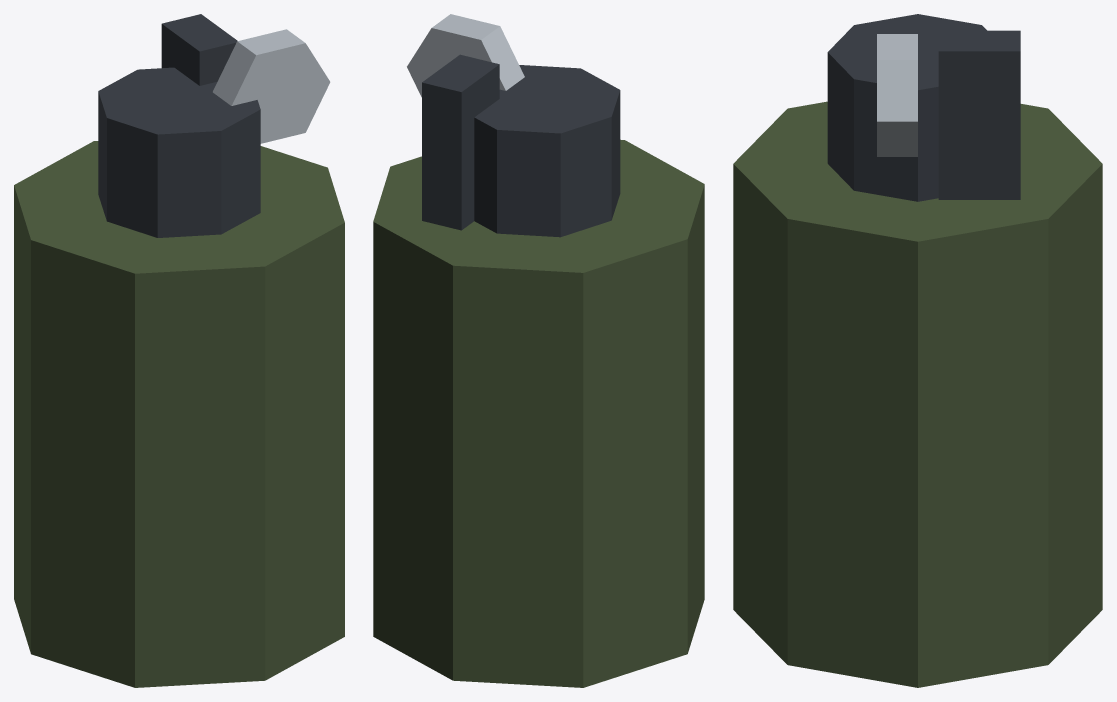
File: Weapon_Grenade.obj
3 views of the same model, side by side, from view 1: azimuth 30°, elevation 25°; view 2: azimuth 150°, elevation 25°; view 3: azimuth 270°, elevation 25° (orthographic). The views are drawn at different scales.
Parts seen in each view (by area): view 1: PineappleBody, FuzeCollar, PullRing, LeverSpoon; view 2: PineappleBody, FuzeCollar, LeverSpoon, PullRing; view 3: PineappleBody, FuzeCollar, LeverSpoon, PullRing.
Boxes of the visible parts, box(x1,y1,x2,y2) form: PineappleBody: box(14, 141, 344, 687); FuzeCollar: box(98, 67, 260, 237); PullRing: box(213, 29, 330, 143); LeverSpoon: box(161, 14, 237, 85); PineappleBody: box(373, 139, 704, 687); FuzeCollar: box(474, 65, 620, 237); LeverSpoon: box(422, 54, 499, 230); PullRing: box(407, 14, 524, 97); PineappleBody: box(733, 101, 1102, 687); FuzeCollar: box(827, 14, 986, 201); LeverSpoon: box(938, 30, 1020, 199); PullRing: box(877, 34, 917, 156).
Bounding box in the file's own units: 0.09 × 0.163 × 0.09.
